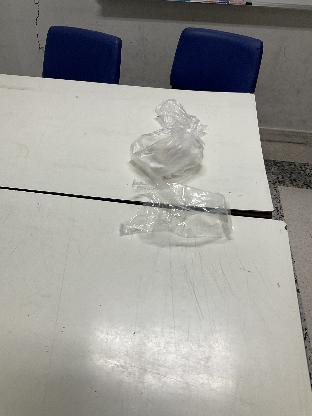Others: (128, 179, 242, 257), (120, 131, 206, 181), (149, 98, 209, 138)
